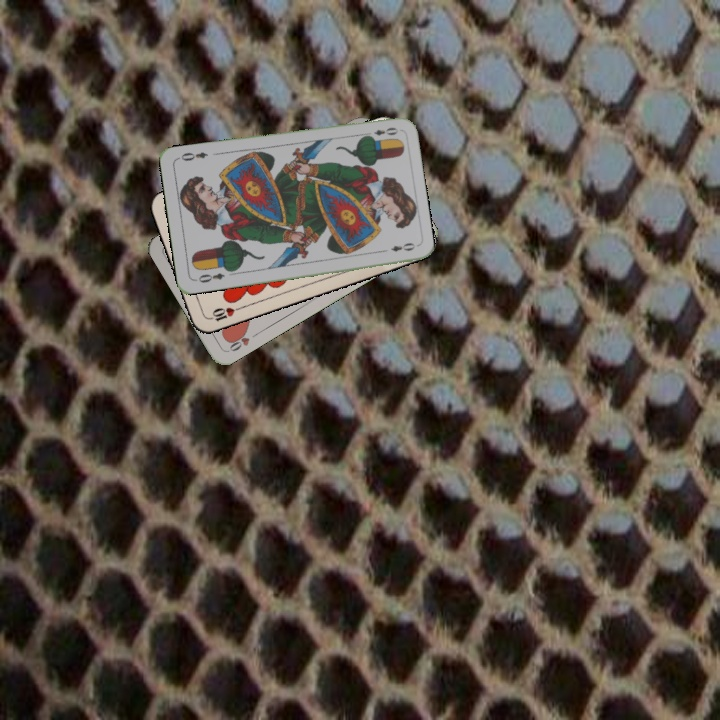EO: (361, 123, 400, 141), (191, 269, 227, 285)
H10: (204, 303, 244, 324)
HO: (224, 327, 261, 354)
